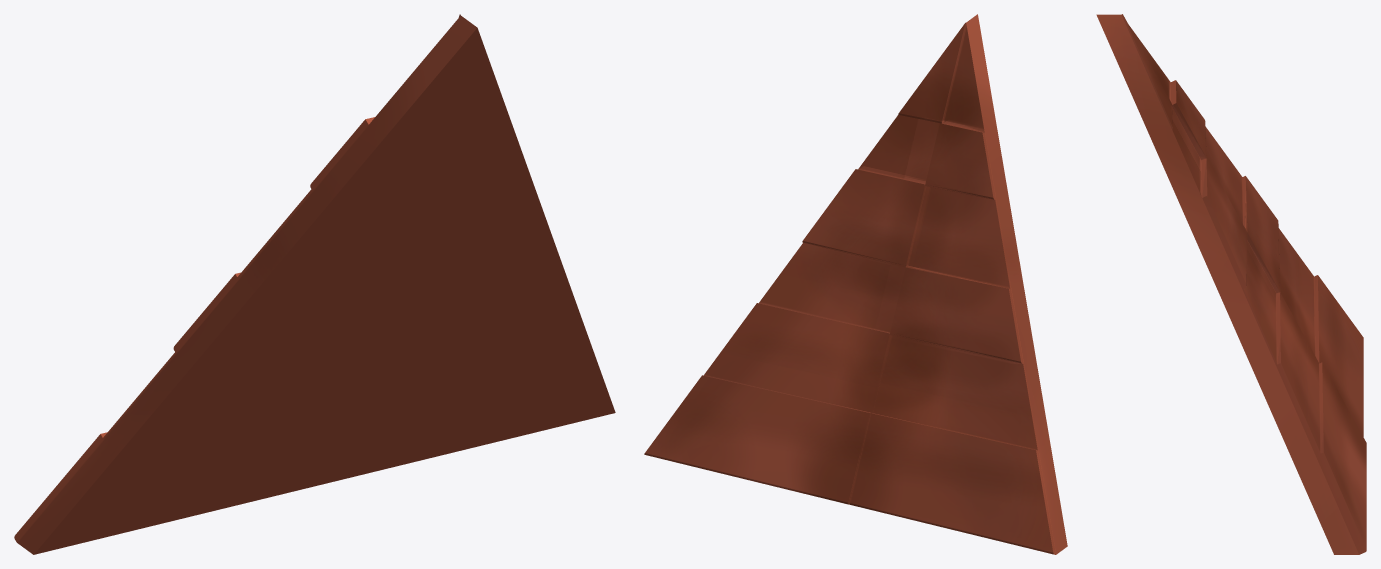
Rendered from Roof 2.fbx.
3 renders of one model, left to right at view 1: azimuth 30°, elevation 25°; view 2: azimuth 150°, elevation 25°; view 3: azimuth 270°, elevation 25°, orthographic. The views are drawn at different scales.
Parts seen in each view (by area): view 1: Roof 2; view 2: Roof 2; view 3: Roof 2.
Boxes of the visible parts, x1,y1,x2,y2 form: Roof 2: (14, 14, 615, 554); Roof 2: (644, 14, 1067, 554); Roof 2: (1096, 14, 1366, 554).
Size of the model in its own units: 275 by 259 by 147.
Materials: 1 (1 with a texture image).
